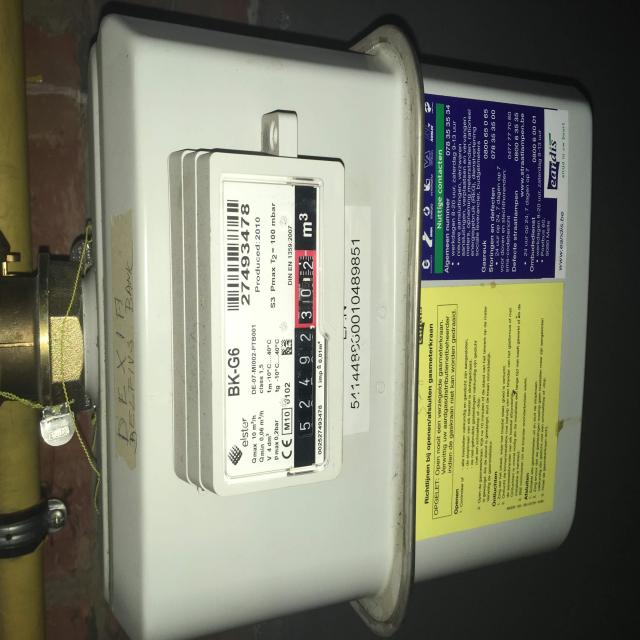gaz_meter: (222, 178, 326, 476)
indication: (295, 252, 317, 449)
